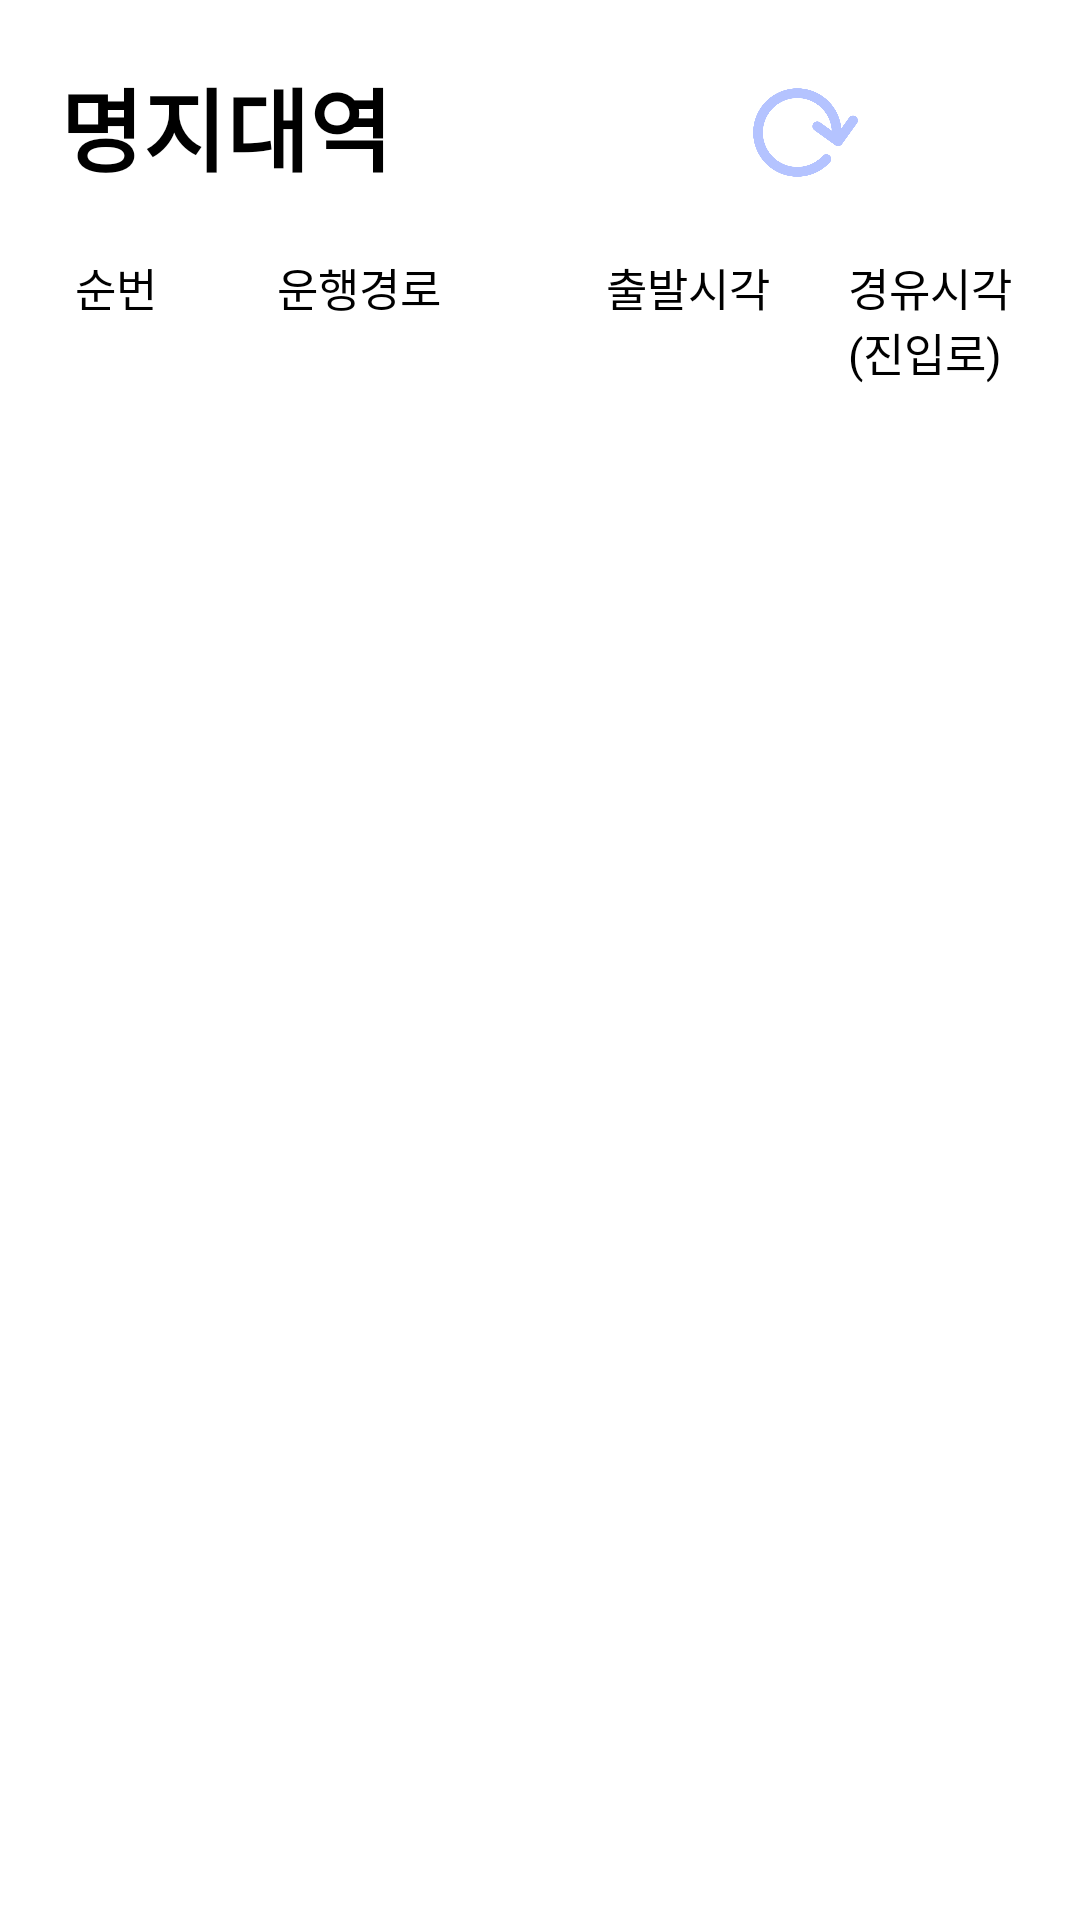

Where to tap for icons on this 1080 × 1920 app screen, as (x=x, y=y):
refresh: (x=805, y=132)
